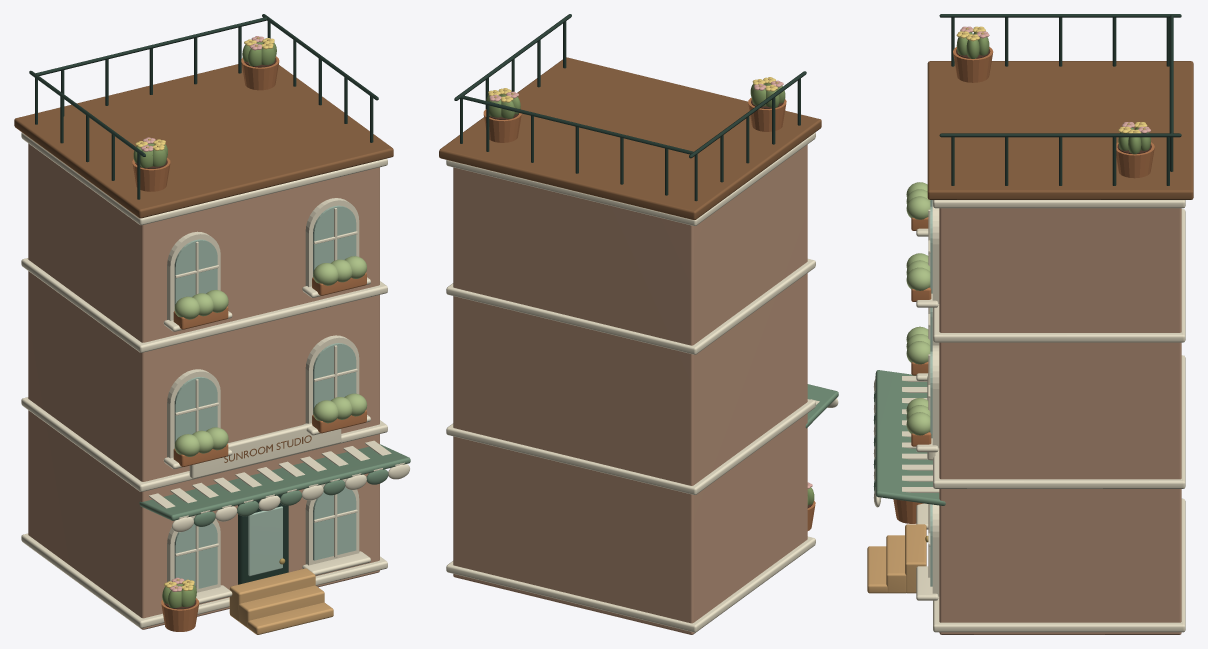
File: studio.glb
3 views of the same model, side by side, from view 1: azimuth 30°, elevation 25°; view 2: azimuth 150°, elevation 25°; view 3: azimuth 270°, elevation 25° (orthographic). The views are drawn at different scales.
Visible parts, largest first — view 1: Plaster house.002, Roof.002, Canvas awning.002, Stone cornice.010, Sign frame.002, Stone cornice.011, Stone cornice.008, Stone cornice.009, Window glass.013, Window glass.012, Door pane.002, Window glass.014 (+24 smaller); view 2: Plaster house.002, Roof.002, Stone cornice.008, Stone cornice.009, Stone cornice.010, Stone cornice.011, Terrace railing.008, Terracotta pot.013, Terracotta pot.012, Canvas awning.002, Terrace railing.006, Terrace railing.007; view 3: Plaster house.002, Roof.002, Canvas awning.002, Stone cornice.008, Stone cornice.009, Stone cornice.010, Stone cornice.011, Shop entrance step.006, Terrace railing.007, Shop entrance step.007, Shop entrance step.008, Terrace railing.006 (+12 smaller).
Part boxes in pixels (x1,y1,x2,y2): Plaster house.002: (28,143,379,629); Roof.002: (14,64,393,218); Canvas awning.002: (139,444,410,520); Stone cornice.010: (21,258,387,352); Sign frame.002: (189,423,341,478); Stone cornice.011: (21,132,387,225); Stone cornice.008: (21,533,387,628); Stone cornice.009: (21,397,387,491); Window glass.013: (313,486,356,560); Window glass.012: (174,519,217,588); Door pane.002: (248,506,282,576); Window glass.014: (174,377,217,443); Plaster house.002: (453,144,807,634); Roof.002: (439,57,821,219); Stone cornice.008: (446,536,815,632); Stone cornice.009: (446,399,815,494); Stone cornice.010: (446,259,815,354); Stone cornice.011: (446,132,815,225); Terrace railing.008: (460,95,693,154); Terracotta pot.013: (483,109,521,142); Terracotta pot.012: (748,97,786,131); Canvas awning.002: (805,384,838,428); Terrace railing.006: (689,71,806,158); Terrace railing.007: (454,14,571,100); Plaster house.002: (939,208,1181,634); Roof.002: (927,61,1193,199); Canvas awning.002: (875,370,945,505); Stone cornice.008: (933,498,1185,632); Stone cornice.009: (933,355,1185,488); Stone cornice.010: (933,209,1185,342); Stone cornice.011: (933,200,1185,208); Shop entrance step.006: (905,524,926,593); Terrace railing.007: (939,133,1181,137); Shop entrance step.007: (886,535,906,593); Shop entrance step.008: (867,546,887,593); Terrace railing.006: (939,14,1181,17).
Bounding box in the file's own units: 4.6 × 8.21 × 4.85.
